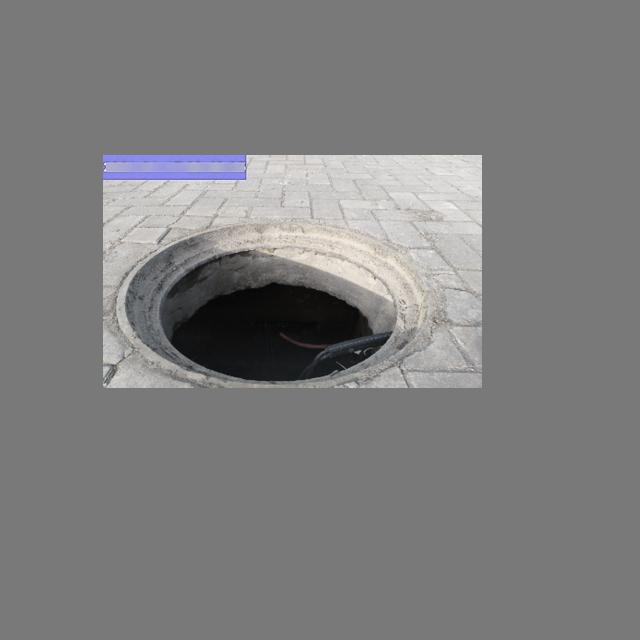lose: (114, 219, 433, 388)
